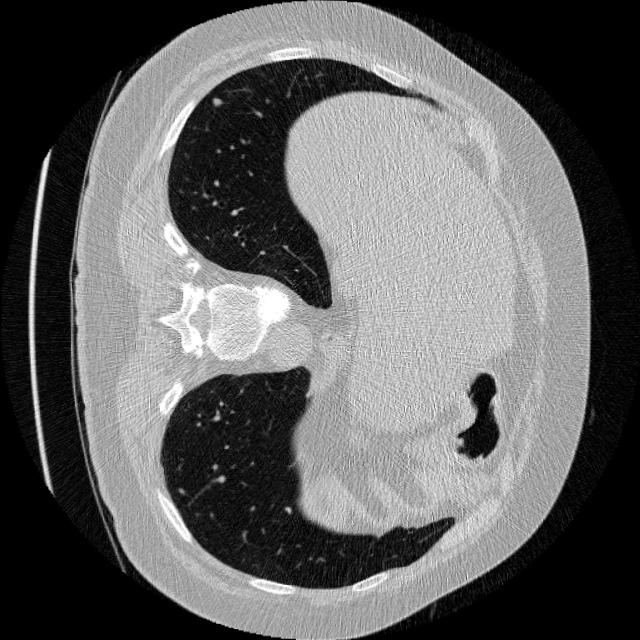nodule: (208, 90, 228, 110)
